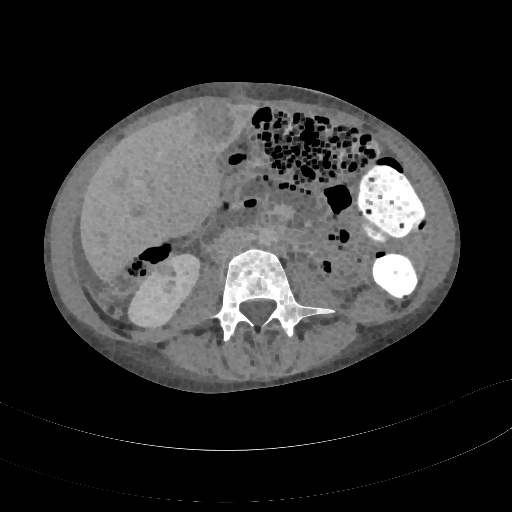Lesion: (150, 262, 180, 278)
